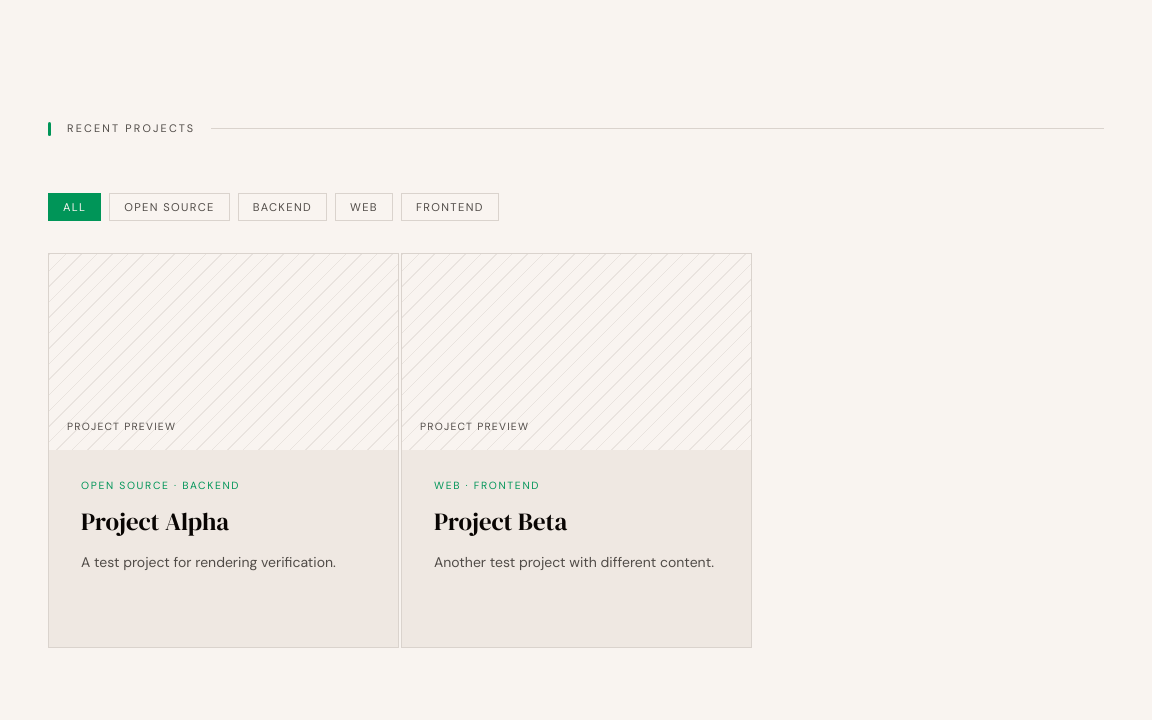
Projects › filters to matching projects when a tag chip is clicked
Click the button "Open Source" at x=170, y=207, box [109,193,230,221]
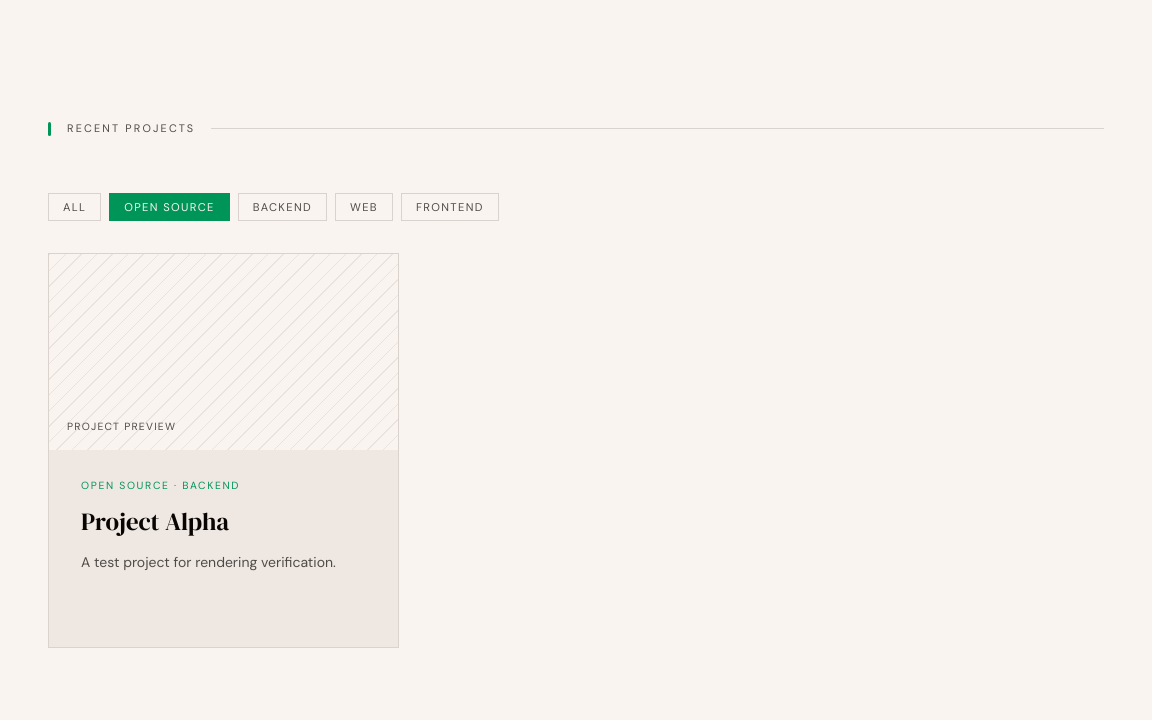
Expected: the heading "Project Alpha" is shown, [81,504,229,538]
Expected: the heading "Project Beta" is gone
